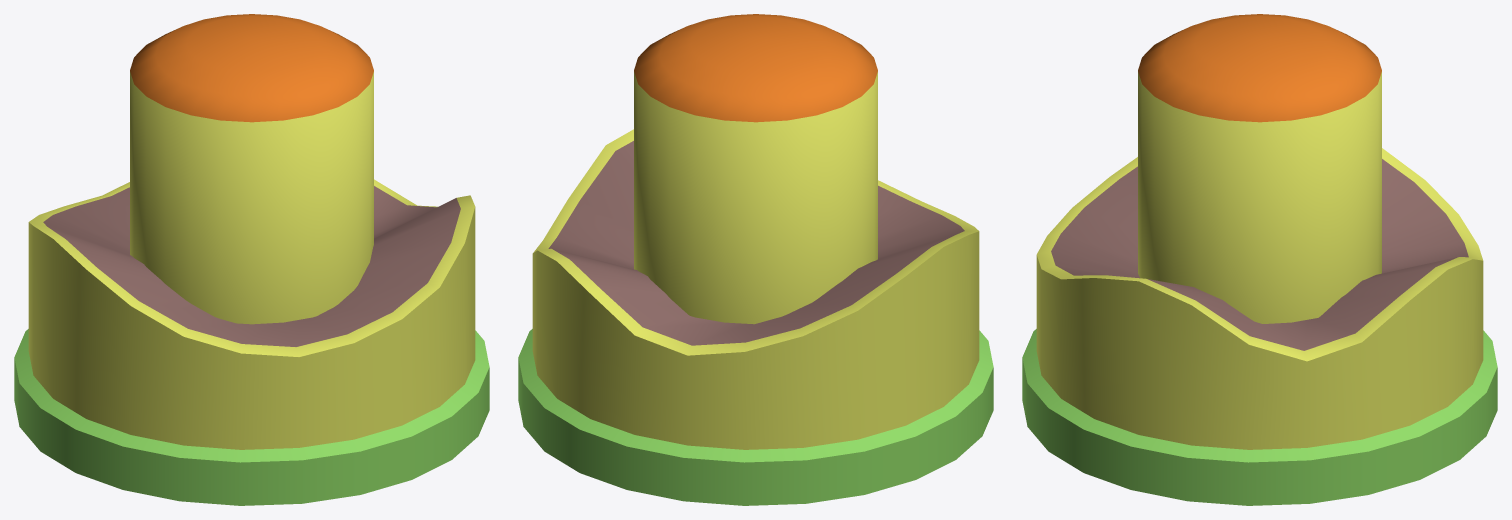
File: Platform.fbx
3 views of the same model, side by side, from view 1: azimuth 30°, elevation 25°; view 2: azimuth 150°, elevation 25°; view 3: azimuth 270°, elevation 25° (orthographic).
Visible parts, largest first — view 1: Planform; view 2: Planform; view 3: Planform.
Boxes of the visible parts, left/top/right/bottom form: Planform: left=14, top=14, right=489, bottom=505; Planform: left=518, top=14, right=993, bottom=505; Planform: left=1022, top=14, right=1497, bottom=505.
Bounding box in the file's own units: 4.25 × 3.62 × 4.25.
